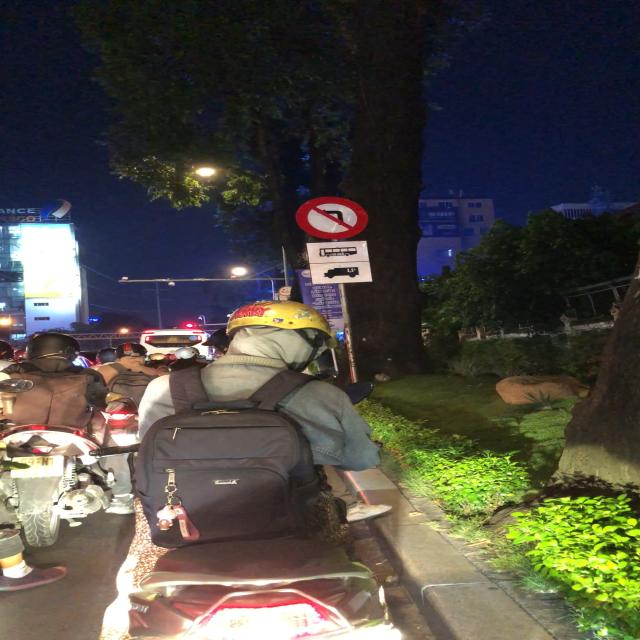Bien bao cam re trai: (294, 196, 371, 240)
